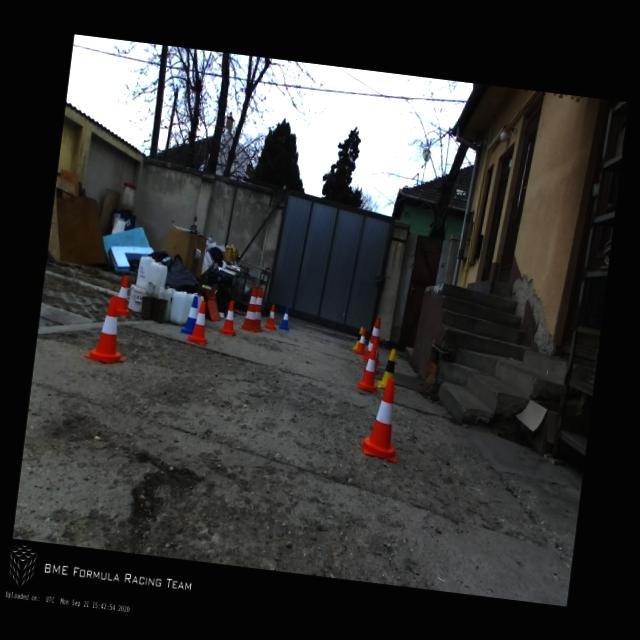blue_cone: (179, 294, 199, 335), (278, 306, 292, 330)
large_orange_cone: (238, 283, 263, 332), (362, 316, 384, 365), (252, 286, 268, 331)
orange_cone: (360, 376, 407, 463), (83, 292, 133, 366), (184, 298, 213, 346), (356, 343, 382, 392), (218, 298, 240, 336), (115, 274, 134, 316), (354, 326, 368, 354), (264, 302, 278, 330)
yellow_cone: (376, 346, 401, 391), (352, 325, 363, 350)
